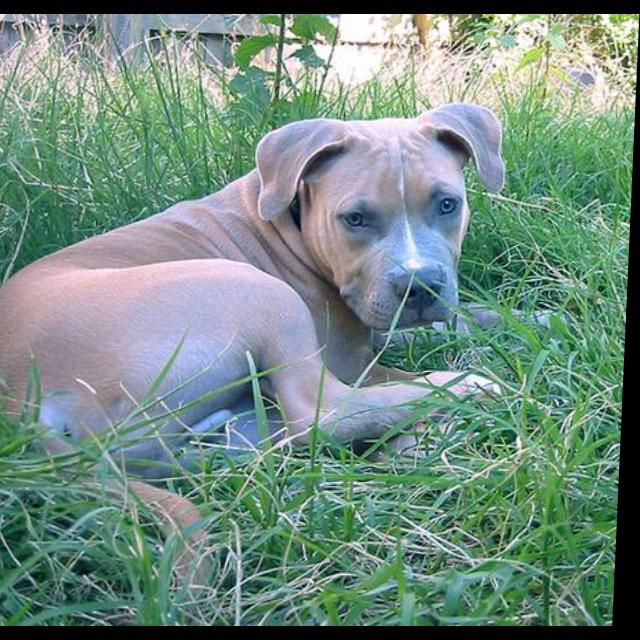amstaff: (1, 102, 575, 595)
